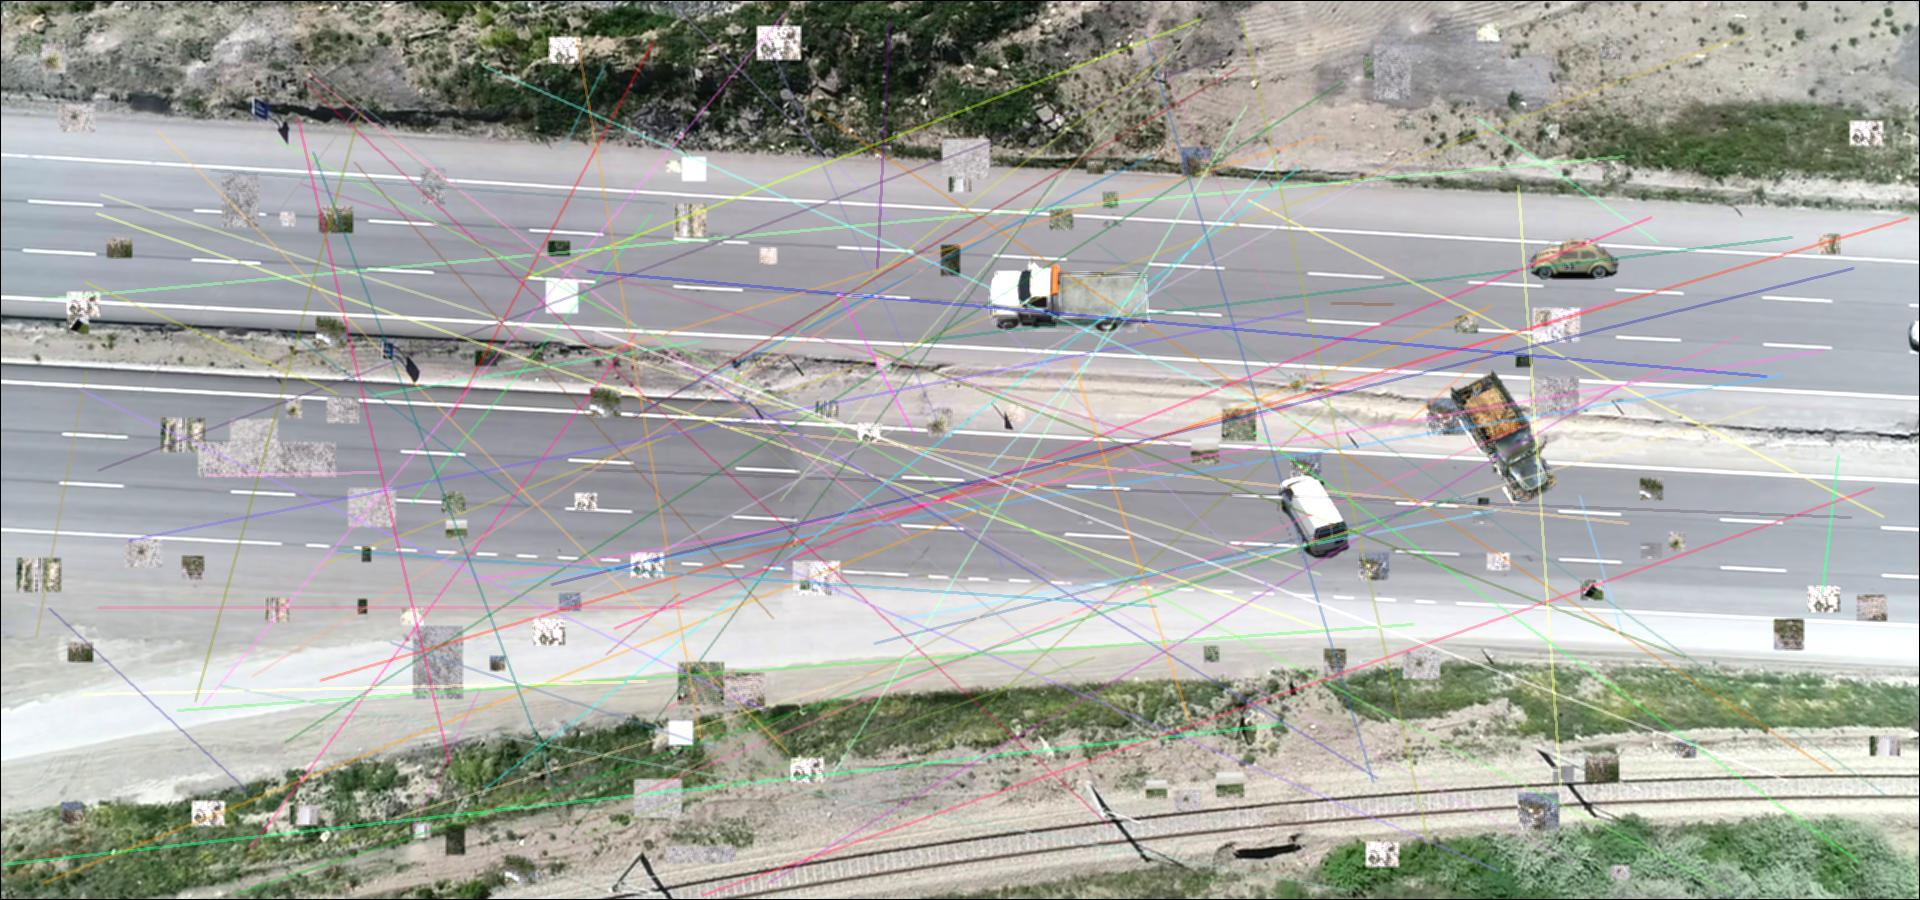arac: (1449, 369, 1556, 506), (989, 258, 1151, 332), (1276, 471, 1349, 558), (1527, 239, 1621, 280), (1015, 302, 1060, 324)
